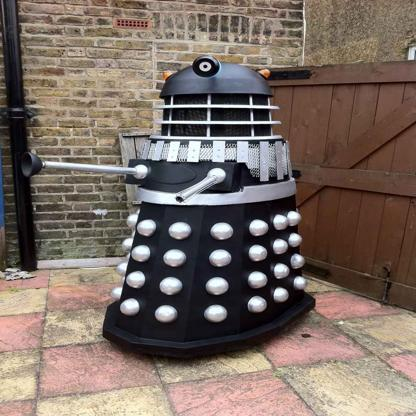dalek: (14, 36, 348, 373)
